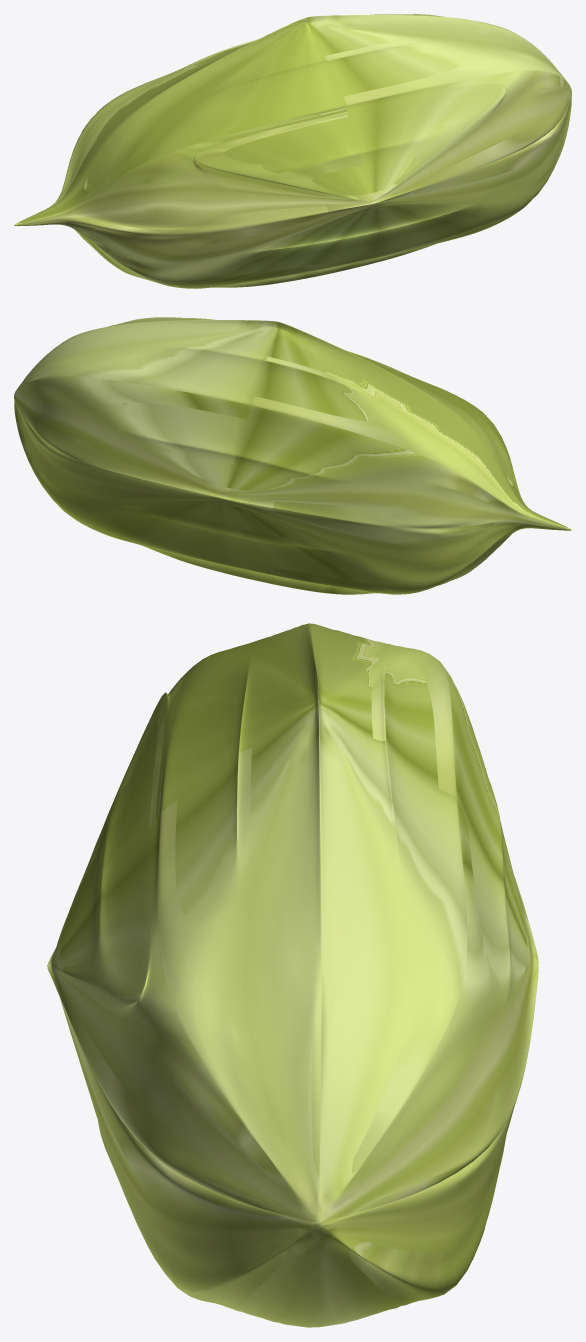
Rendered from toothgreenkinomi-draco.glb.
3 renders of one model, top to bottom at view 1: azimuth 30°, elevation 25°; view 2: azimuth 150°, elevation 25°; view 3: azimuth 270°, elevation 25°, orthographic. The views are drawn at different scales.
Visible parts, largest first — view 1: Cube; view 2: Cube; view 3: Cube.
Boxes of the visible parts, x1=… form: Cube: x1=14, y1=14, x2=571, y2=288; Cube: x1=14, y1=317, x2=571, y2=594; Cube: x1=47, y1=623, x2=538, y2=1327.
Bounding box in the file's own units: 9.52 × 4.16 × 3.64.
Materials: 1 (1 with a texture image).
